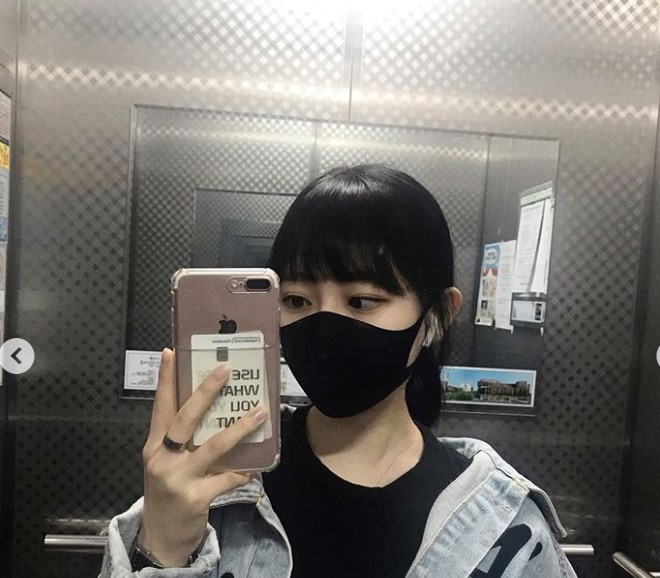face_with_mask: (267, 166, 462, 418)
